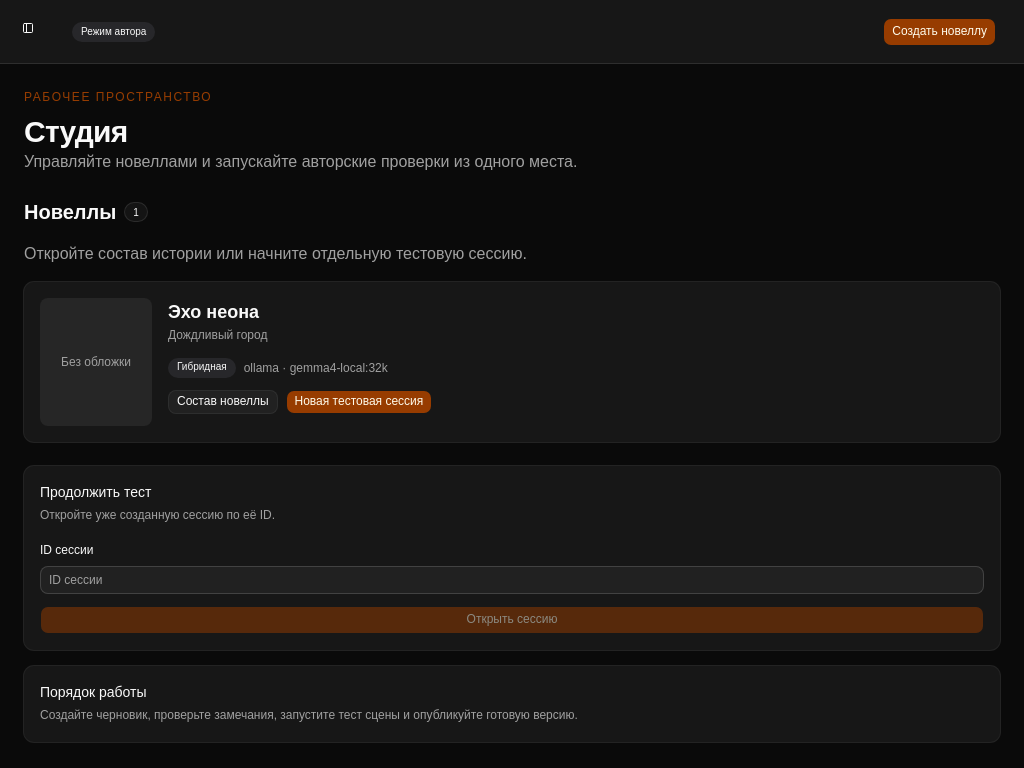
it: открывает существующую сессию по ID
The width and height of the screenshot is (1024, 768).
In the field labelled "ID сессии": (512, 580) [40,566,984,594], type "session-1"
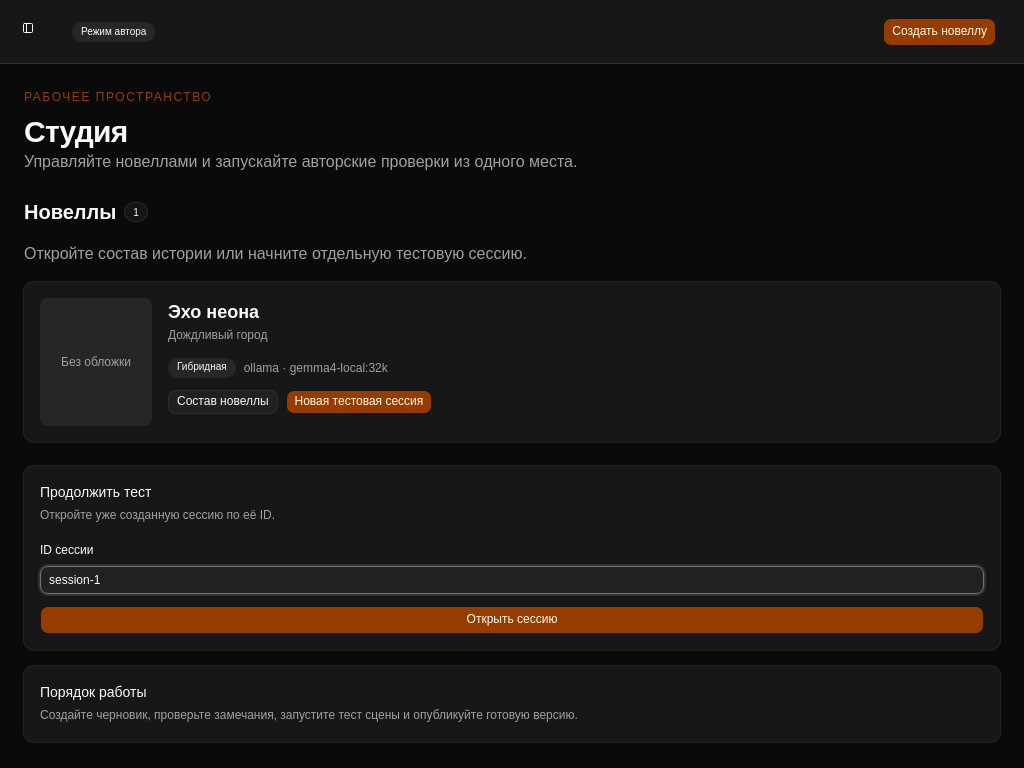
Click the button "Открыть сессию": (512, 620) [40,606,984,634]
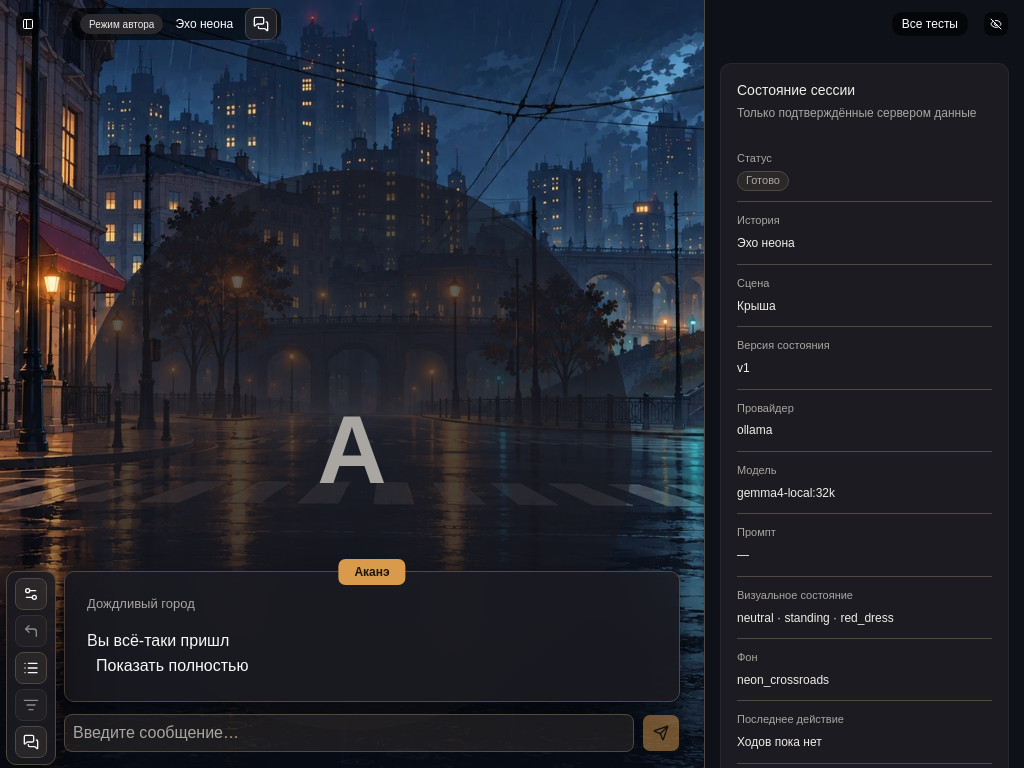
Check: the text "Крыша" is shown, box [737,299,776,313]
